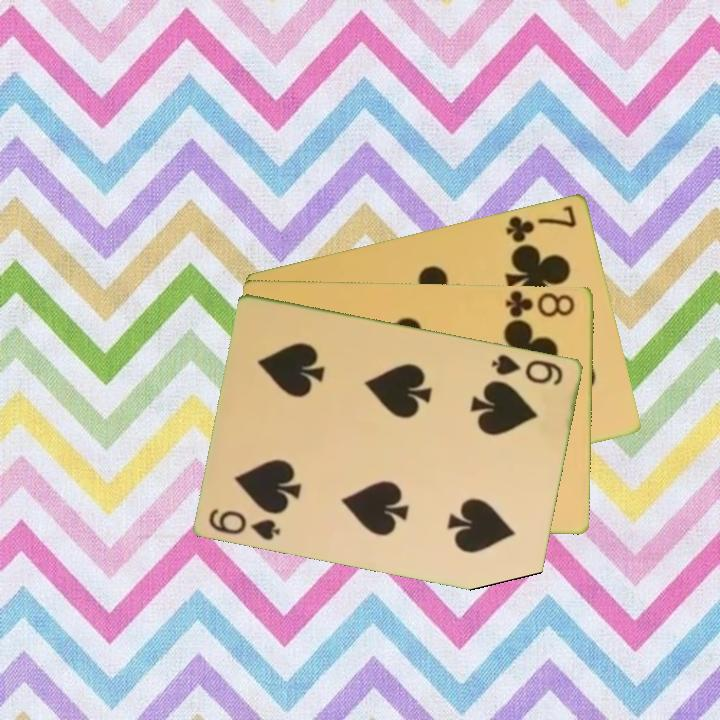6s: (205, 505, 284, 543), (488, 350, 566, 388)
7c: (502, 201, 580, 245)
8c: (503, 288, 578, 323)
